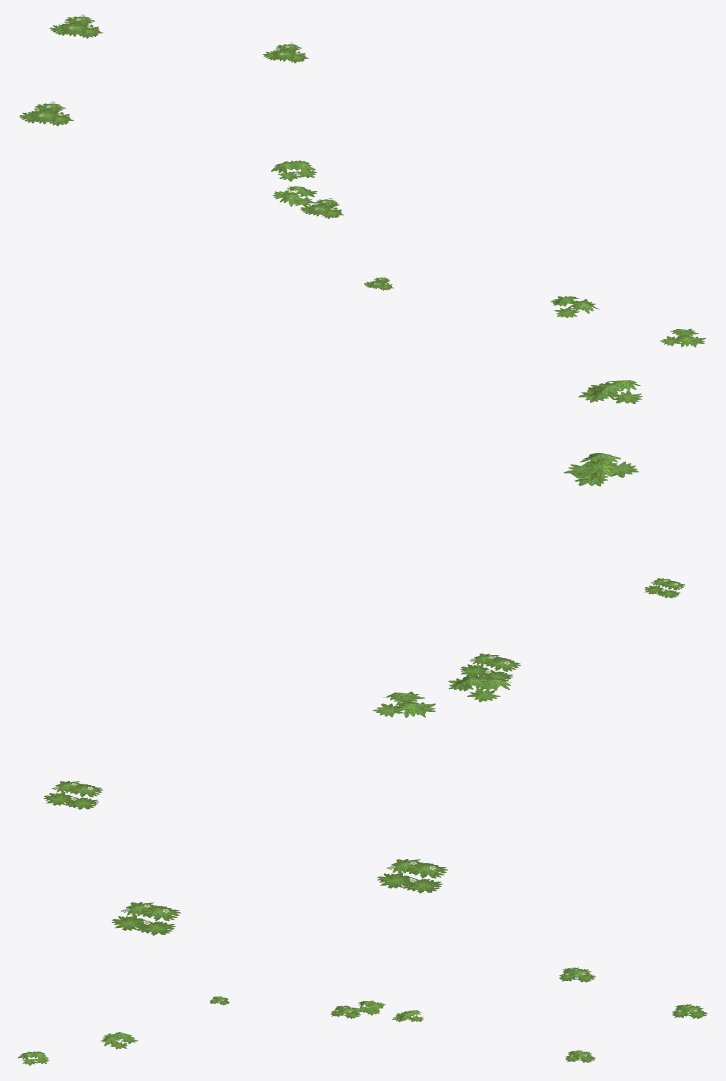
File: Area_08_16.fbx
3 views of the same model, one above another, from view 1: azimuth 30°, elevation 25°; view 2: azimuth 150°, elevation 25°; view 3: azimuth 270°, elevation 25° (orthographic). The views are drawn at different scales.
Parts seen in each view (by area): view 1: Area_08_16; view 2: Area_08_16; view 3: Area_08_16.
Boxes of the visible parts, <box> form: Area_08_16: <box>19,14,705,347</box>; Area_08_16: <box>44,380,684,935</box>; Area_08_16: <box>18,967,707,1065</box>.
Bounding box in the file's own units: 1944 × 81.53 × 5802.
